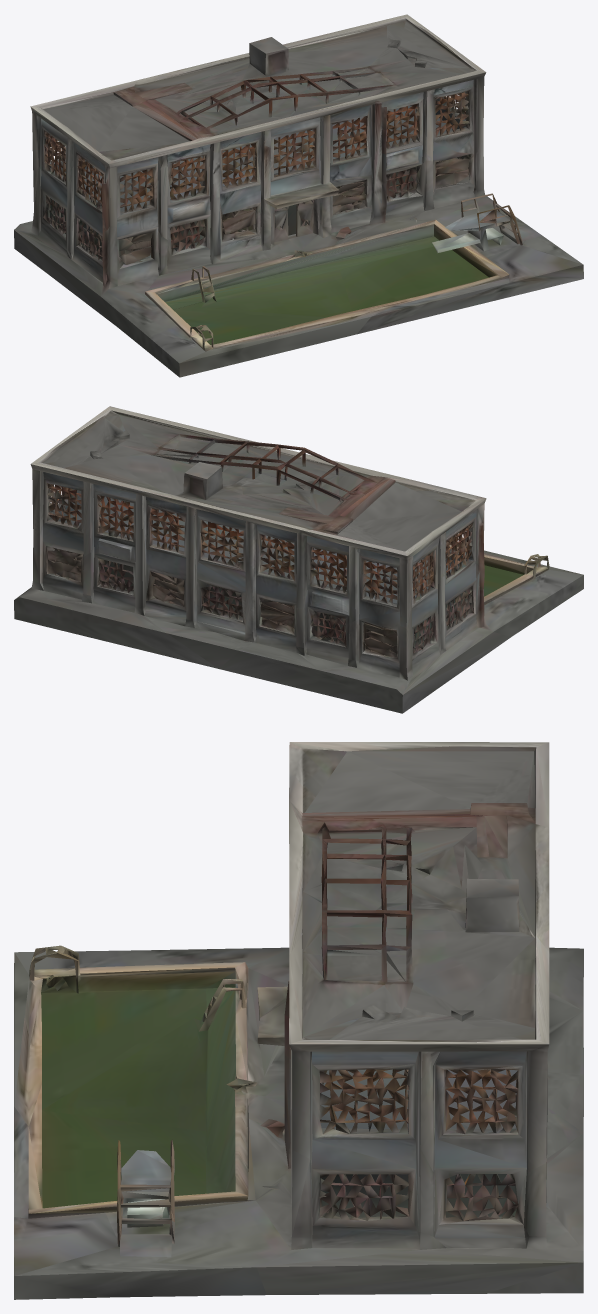
The model's file is school_idle.glb.
3 renders of one model, top to bottom at view 1: azimuth 30°, elevation 25°; view 2: azimuth 150°, elevation 25°; view 3: azimuth 270°, elevation 25°, orthographic. The views are drawn at different scales.
Parts seen in each view (by area): view 1: tripo_node_c647f676-7f64-46b5-b0aa-4e03e1bec4de; view 2: tripo_node_c647f676-7f64-46b5-b0aa-4e03e1bec4de; view 3: tripo_node_c647f676-7f64-46b5-b0aa-4e03e1bec4de.
Boxes of the visible parts, bbox=[...] form: tripo_node_c647f676-7f64-46b5-b0aa-4e03e1bec4de: bbox=[14, 14, 583, 377]; tripo_node_c647f676-7f64-46b5-b0aa-4e03e1bec4de: bbox=[14, 406, 583, 713]; tripo_node_c647f676-7f64-46b5-b0aa-4e03e1bec4de: bbox=[14, 742, 583, 1299].
Bounding box in the file's own units: 19.99 × 7.95 × 14.85.
1 material, 1 textured.
